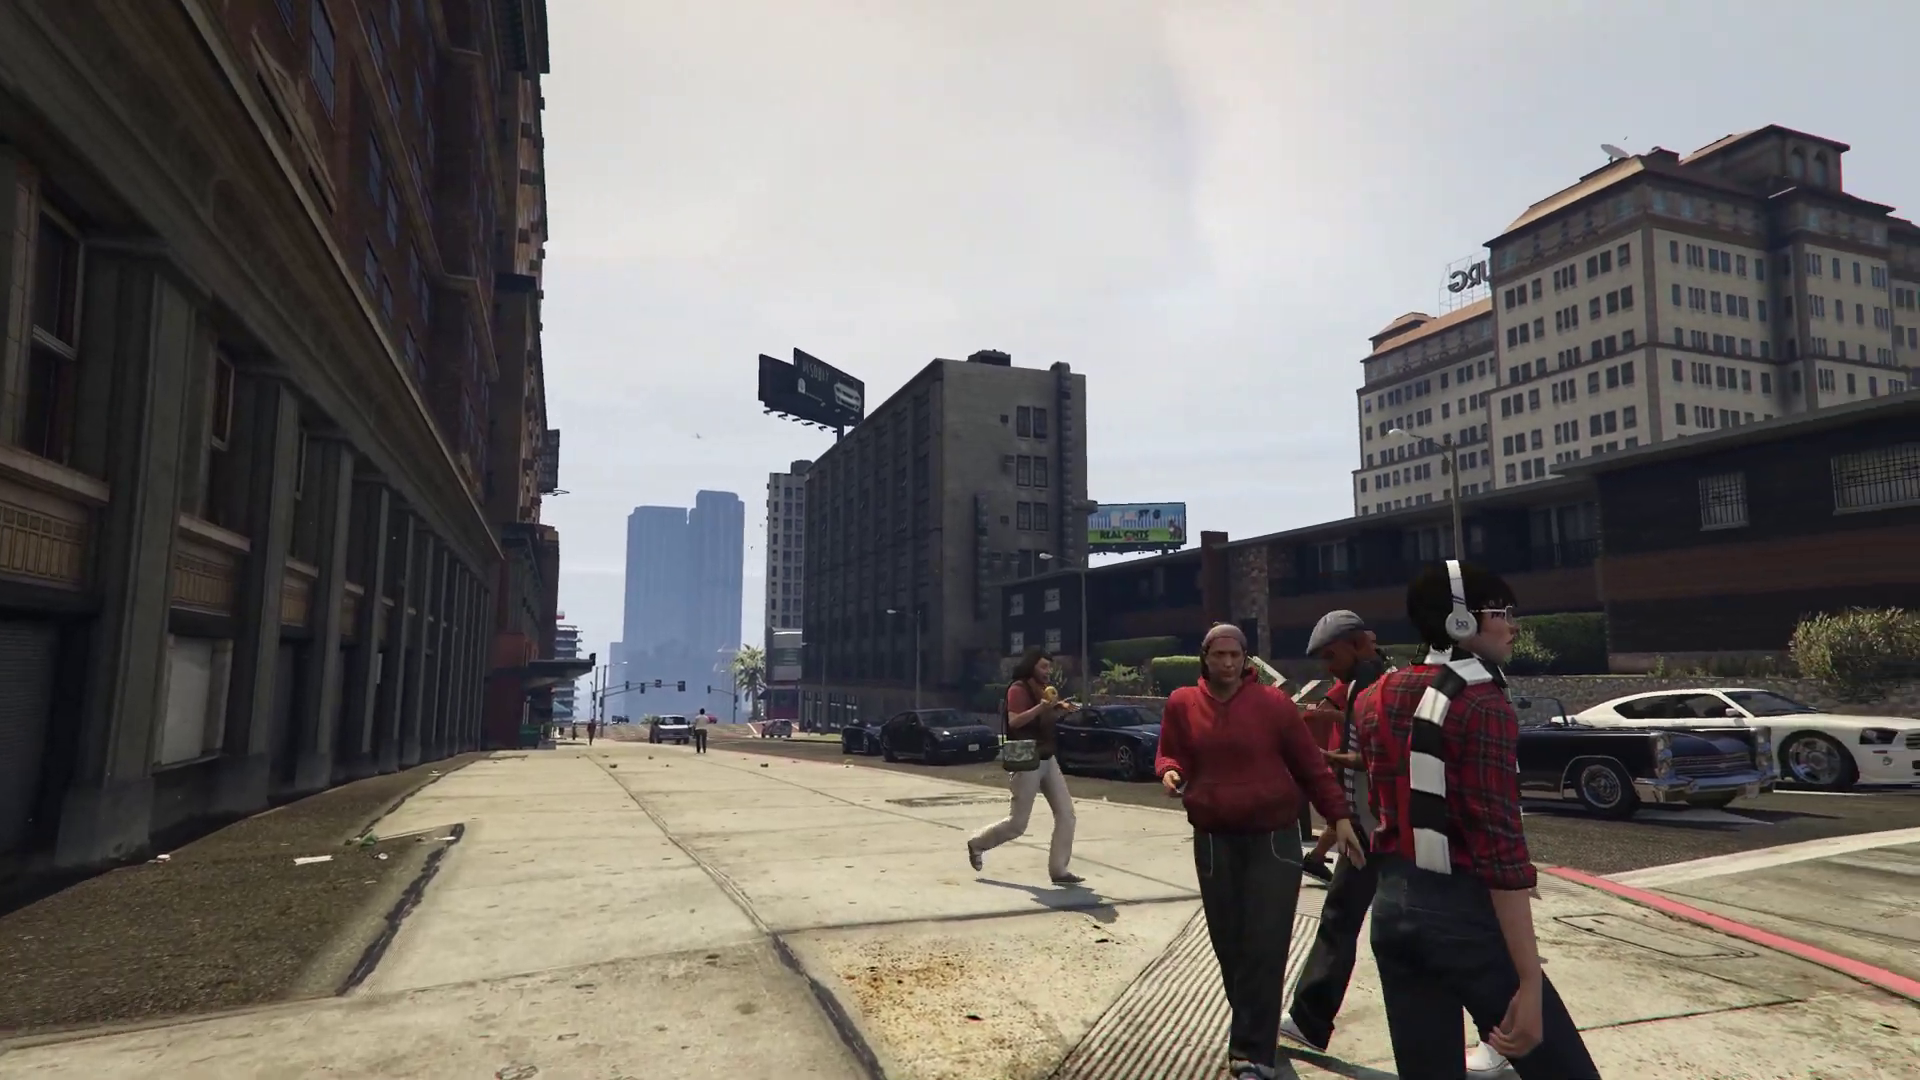car: (1555, 689, 1901, 784), (1510, 695, 1775, 807), (1057, 702, 1168, 781), (882, 710, 999, 763), (840, 716, 882, 755), (650, 714, 689, 748), (761, 719, 790, 741)
person: (1382, 558, 1604, 1080), (1155, 621, 1369, 1080), (1282, 611, 1391, 1043), (969, 653, 1090, 885), (693, 709, 709, 753), (586, 719, 595, 745), (806, 719, 811, 736)
